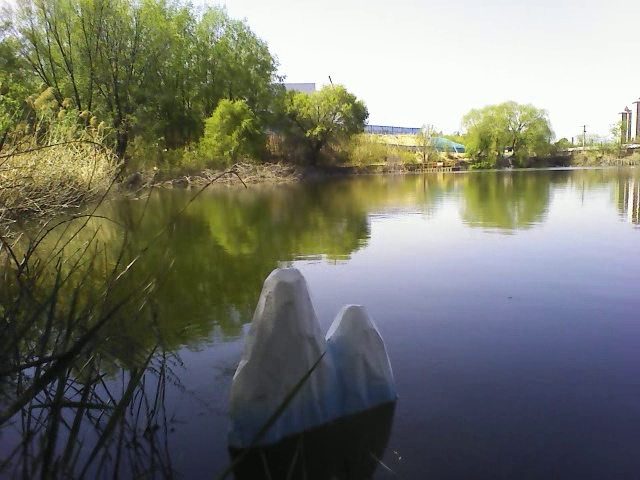iceberg: (220, 265, 405, 453)
